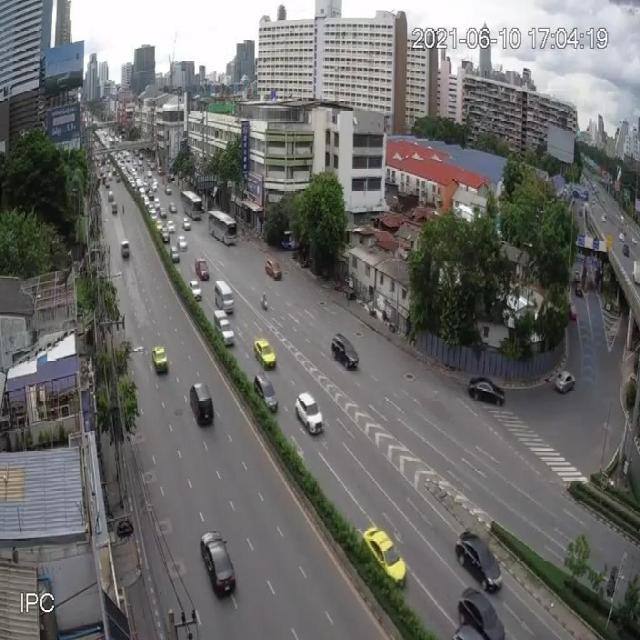Bus: (208, 207, 238, 246), (180, 189, 202, 222)
Car: (455, 528, 503, 592), (363, 526, 407, 589), (456, 587, 504, 640), (200, 530, 237, 598), (296, 393, 324, 434), (467, 377, 505, 407), (331, 334, 360, 372), (254, 371, 279, 413), (213, 310, 235, 346), (254, 339, 276, 368), (452, 625, 486, 640), (555, 371, 575, 396), (152, 346, 168, 374), (266, 257, 282, 280), (195, 257, 210, 281), (188, 279, 201, 301), (176, 235, 187, 251), (170, 247, 180, 264), (160, 225, 170, 242), (167, 219, 176, 233), (155, 218, 163, 232), (182, 217, 190, 230), (158, 207, 167, 218), (168, 202, 177, 213), (573, 270, 581, 282), (153, 197, 160, 209), (164, 184, 172, 194), (147, 190, 154, 200), (116, 172, 121, 183)
Cycle: (260, 296, 268, 311)
Van: (189, 381, 214, 427), (214, 277, 234, 314)
